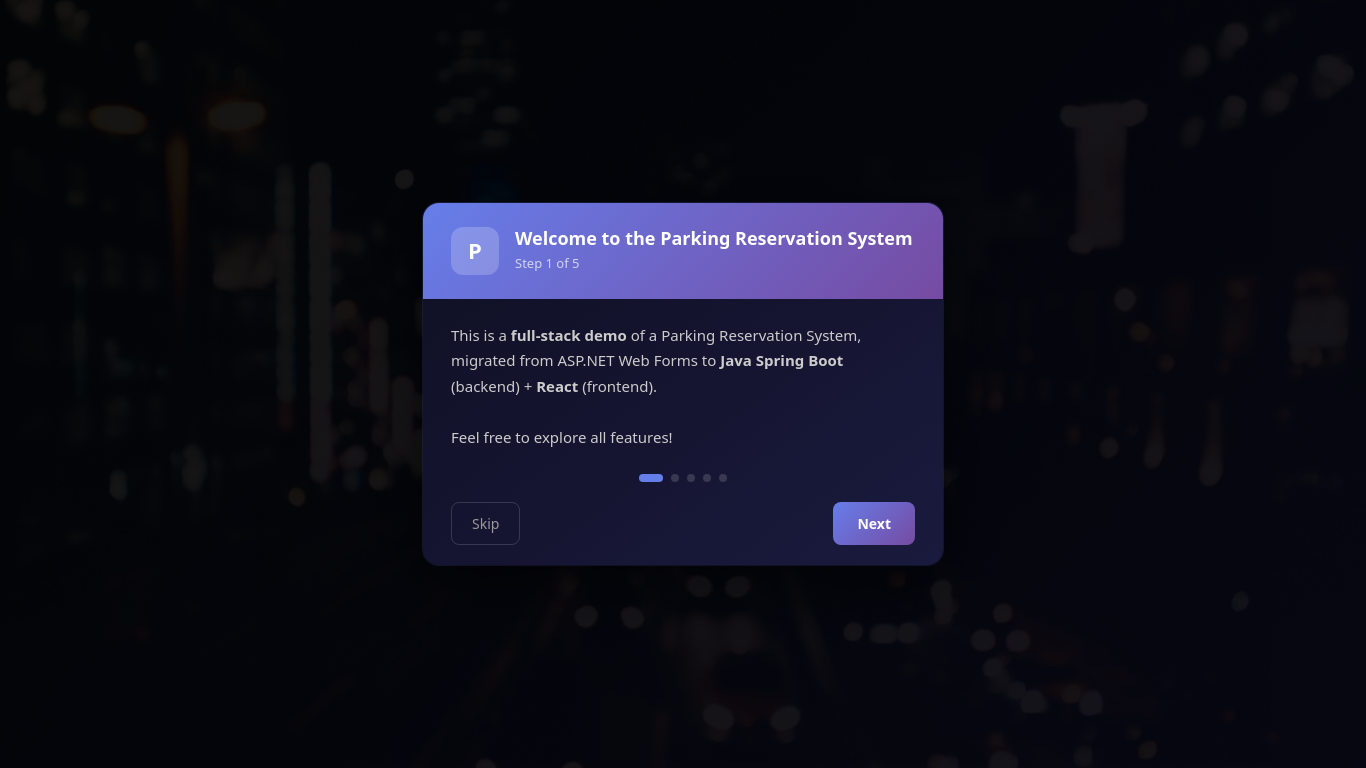
DemoGuide › should navigate back when Back is clicked
Click the button "Next": (874, 524) [834,502,915,545]
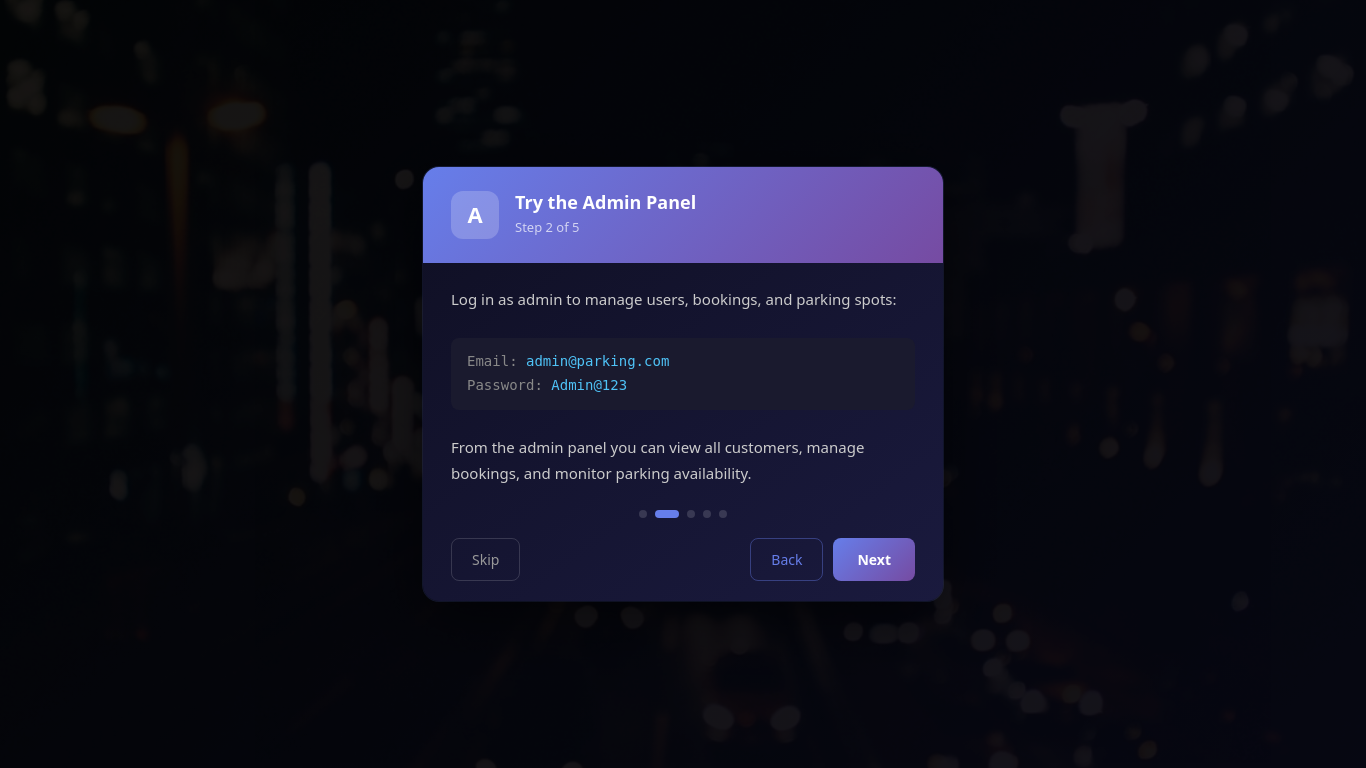
Expected: the text "Step 2 of 5" is shown, [515,218,580,236]
Click the button "Back": (787, 560) [750,538,824,581]
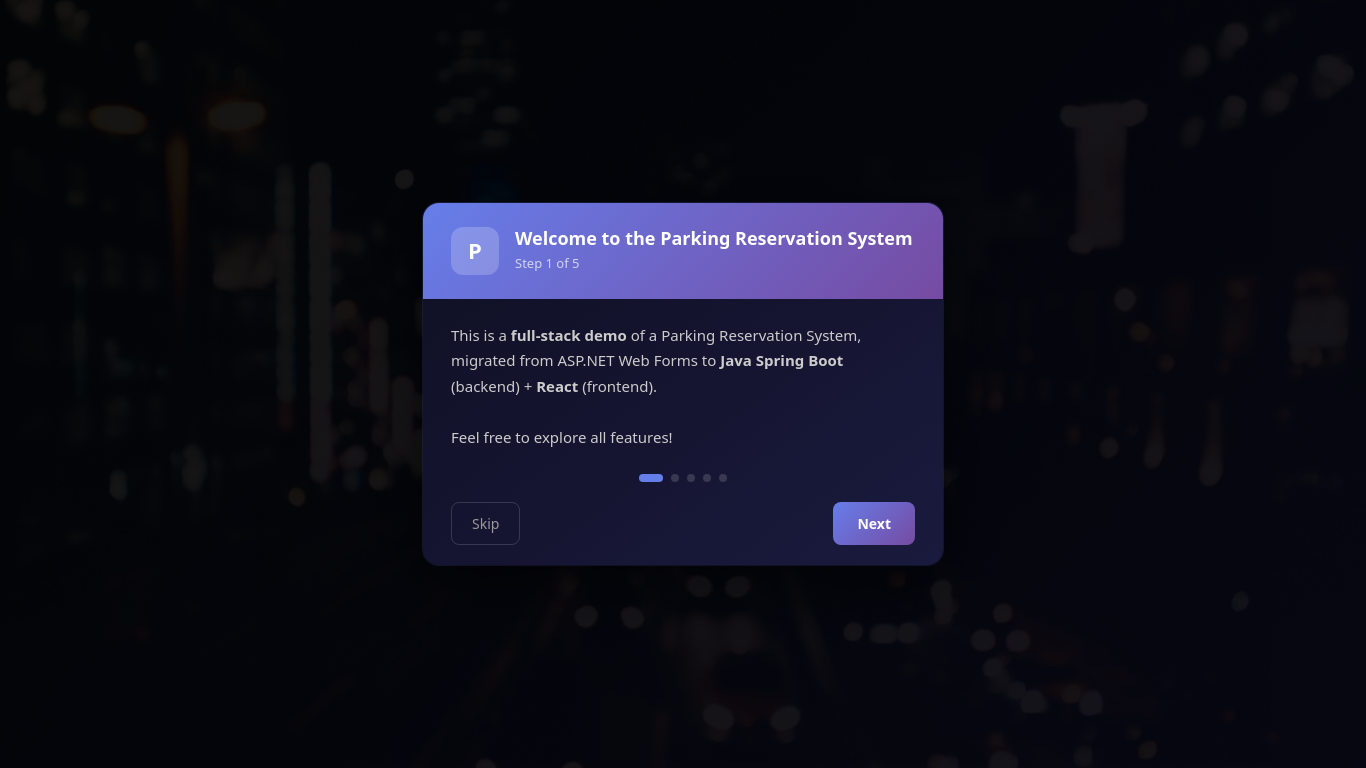
Expected: the text "Step 1 of 5" is shown, [515,254,580,272]
